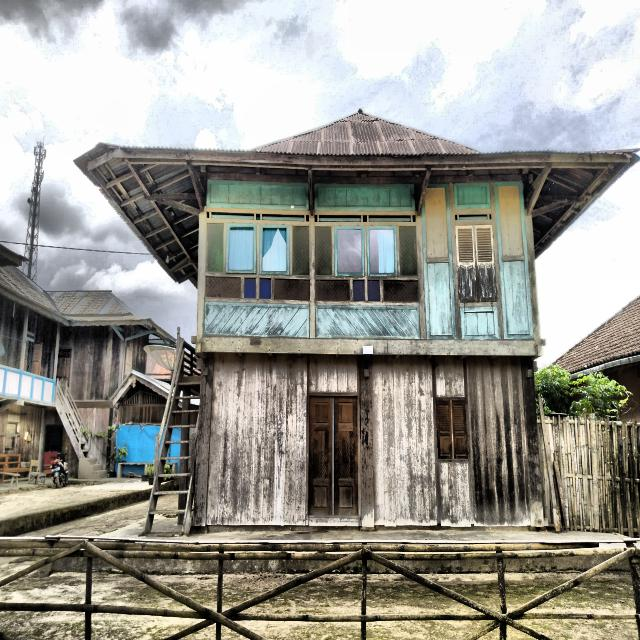column: (521, 356, 544, 527), (193, 358, 213, 526), (361, 354, 374, 527)
door: (306, 392, 360, 516)
roof: (75, 113, 639, 286), (0, 244, 177, 344), (554, 296, 640, 373), (111, 370, 170, 406), (146, 353, 171, 379)
stair: (143, 326, 201, 533), (55, 379, 108, 479)
wall: (206, 352, 363, 528), (373, 355, 531, 526), (421, 181, 534, 340), (203, 179, 310, 338), (314, 184, 421, 340)
window: (456, 224, 497, 303), (436, 400, 469, 459), (226, 223, 257, 273), (335, 226, 365, 276), (367, 226, 397, 276), (260, 224, 289, 275)
